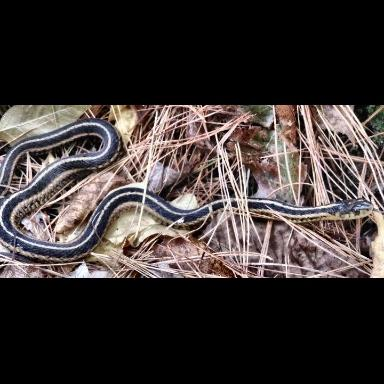snake: (0, 118, 370, 259)
